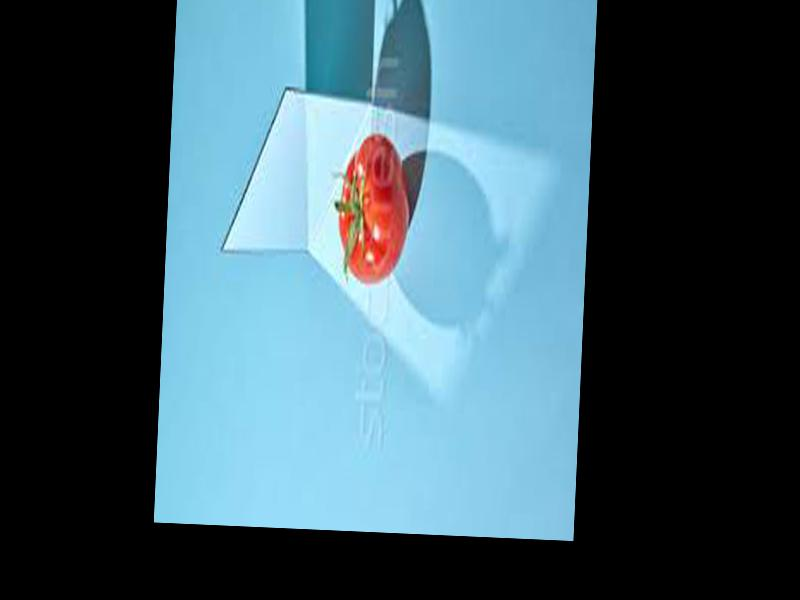Tomato: (336, 132, 412, 285)
